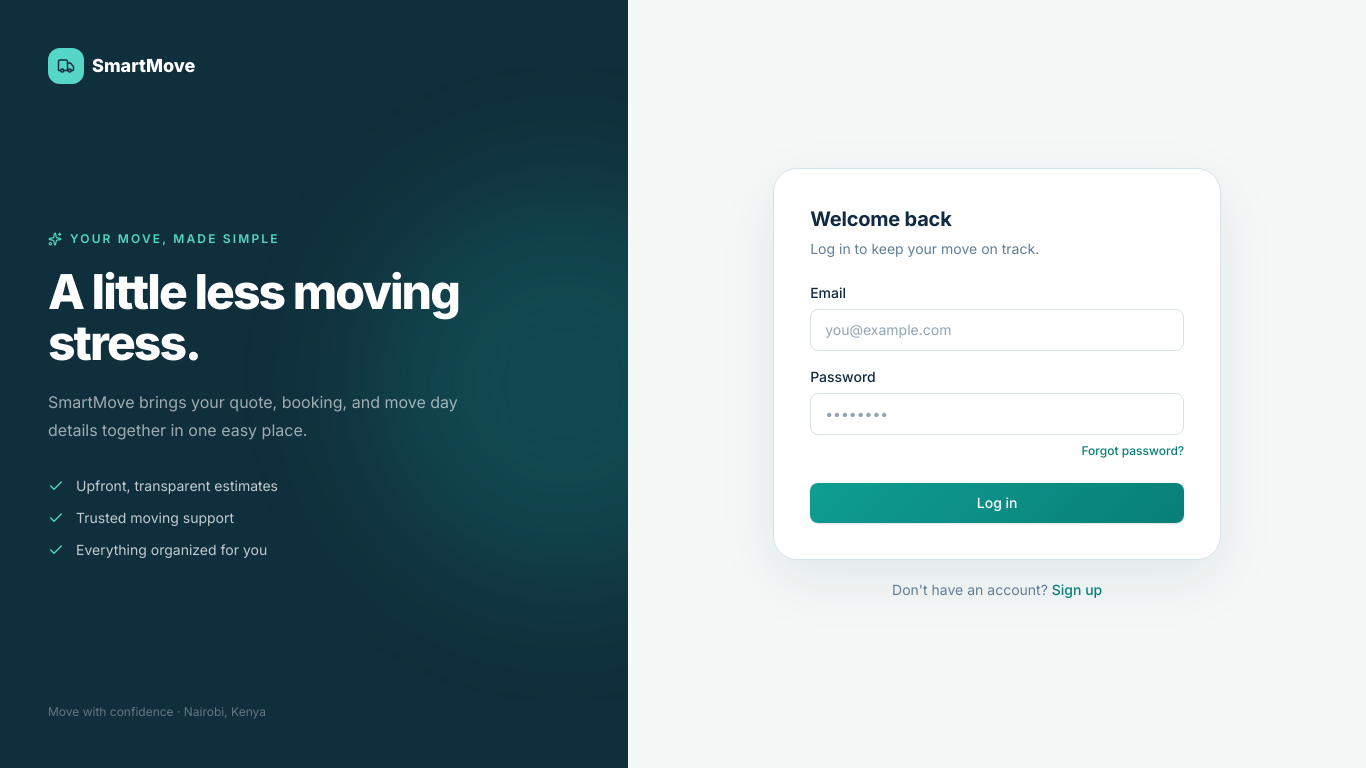
Login page › surfaces a server error on failed login
The width and height of the screenshot is (1366, 768).
Type "jane@example.com" into the field labelled "Email". click: (997, 330)
box: [810,309,1184,351]
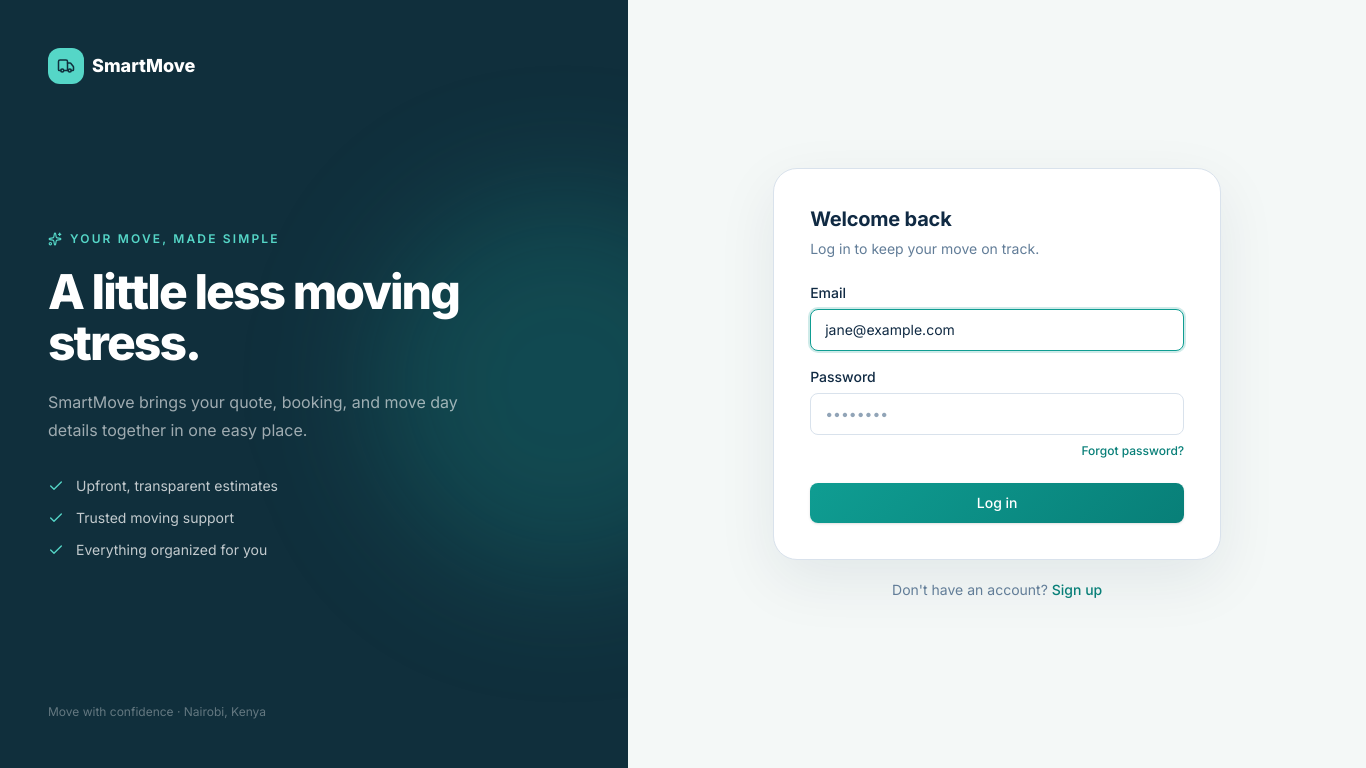
Type "wrongpass" into the password field labelled "Password". click: (997, 414)
box: [810,393,1184,435]
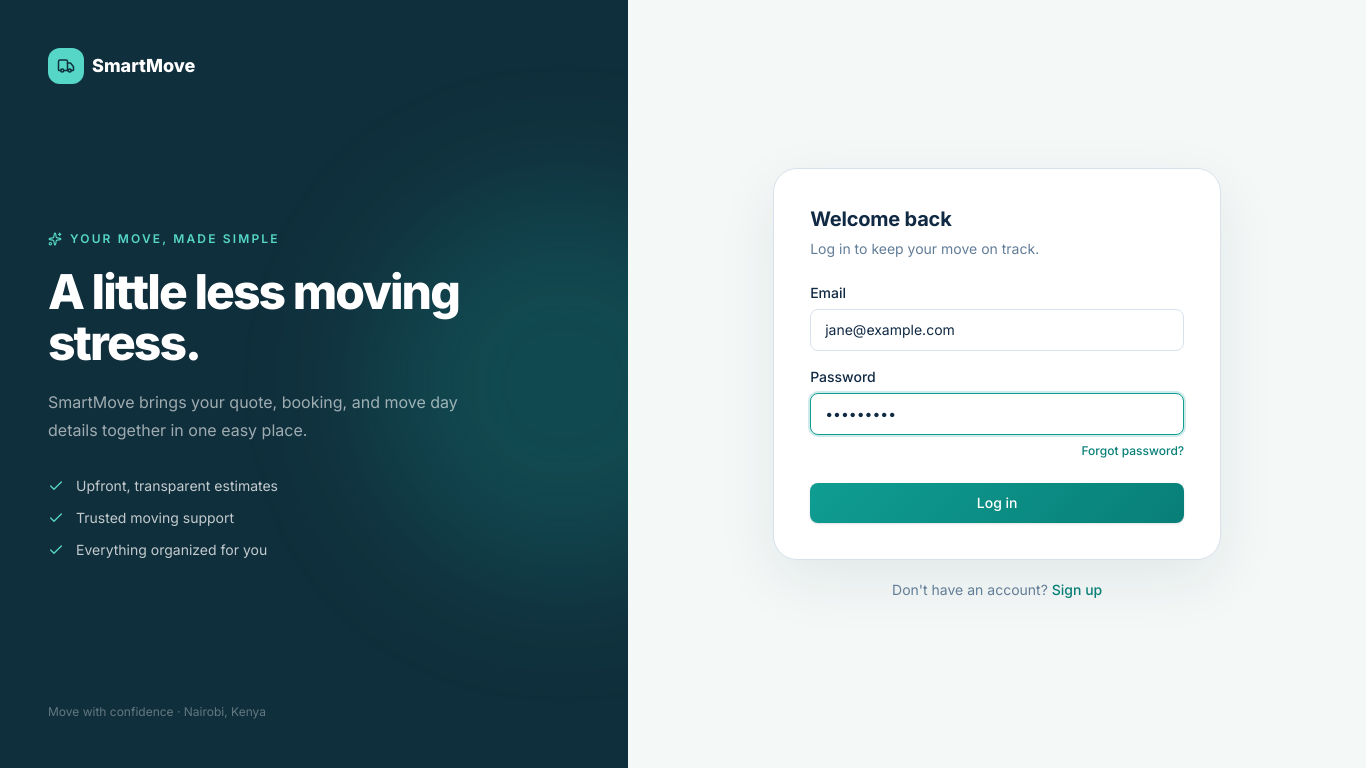
Click the button "Log in". click: (997, 503)
box: [810,483,1184,523]
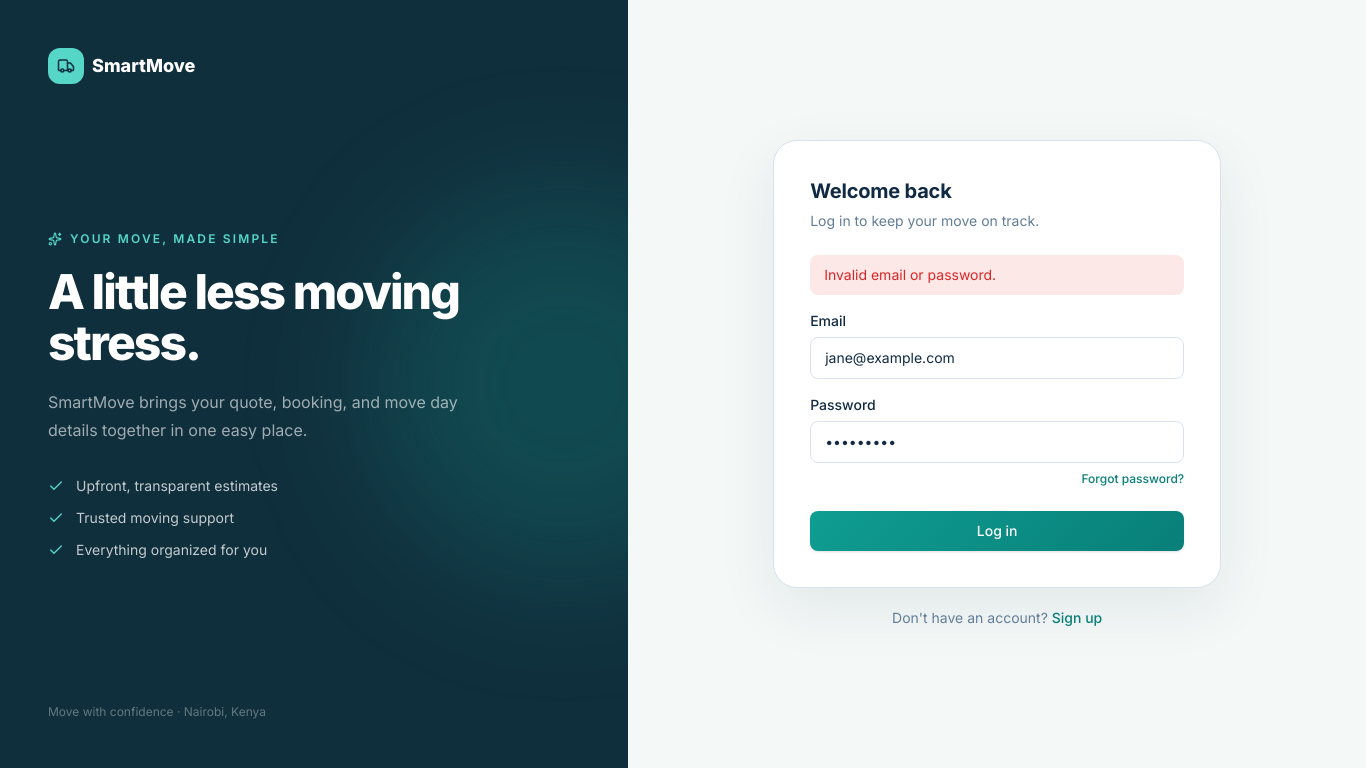
Expected: the text "Invalid email or password." is shown, [810,255,1184,295]
